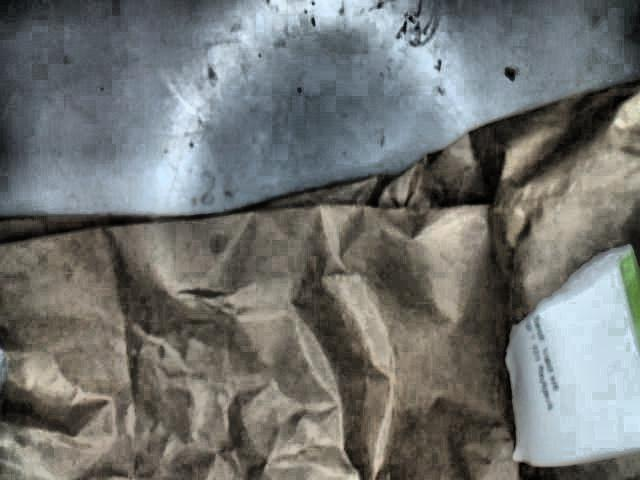Paper: (0, 83, 640, 480)
